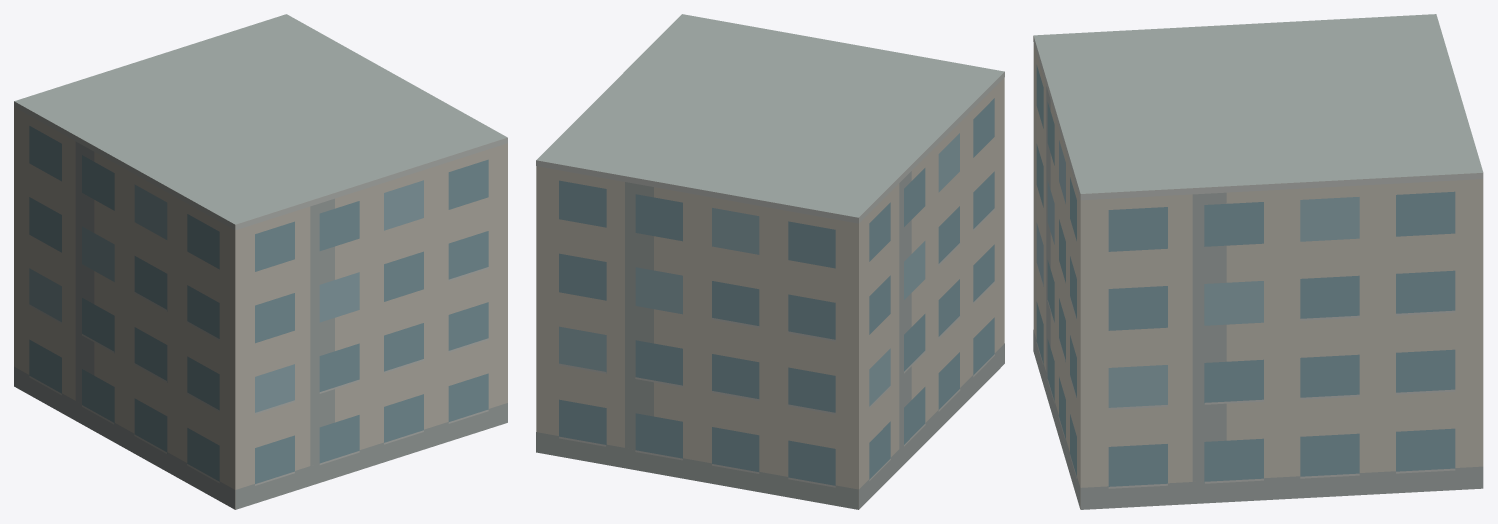
File: residential-6ff5727f-babf-4f86-80ea-f58aa2dcf18f.glb
The picture shows the model from 3 angles, left to right: view 1: azimuth 30°, elevation 25°; view 2: azimuth 150°, elevation 25°; view 3: azimuth 270°, elevation 25°; orthographic projection. The views are drawn at different scales.
Visible parts, largest first — view 1: residential-6ff5727f-babf-4f86-80ea-f58aa2dcf18f.tmp; view 2: residential-6ff5727f-babf-4f86-80ea-f58aa2dcf18f.tmp; view 3: residential-6ff5727f-babf-4f86-80ea-f58aa2dcf18f.tmp.
Boxes of the visible parts, x1,y1,x2,y2 form: residential-6ff5727f-babf-4f86-80ea-f58aa2dcf18f.tmp: (14,14,507,509); residential-6ff5727f-babf-4f86-80ea-f58aa2dcf18f.tmp: (536,14,1004,509); residential-6ff5727f-babf-4f86-80ea-f58aa2dcf18f.tmp: (1033,14,1483,509).
Bounding box in the file's own units: 14.93 × 12.2 × 15.76.
